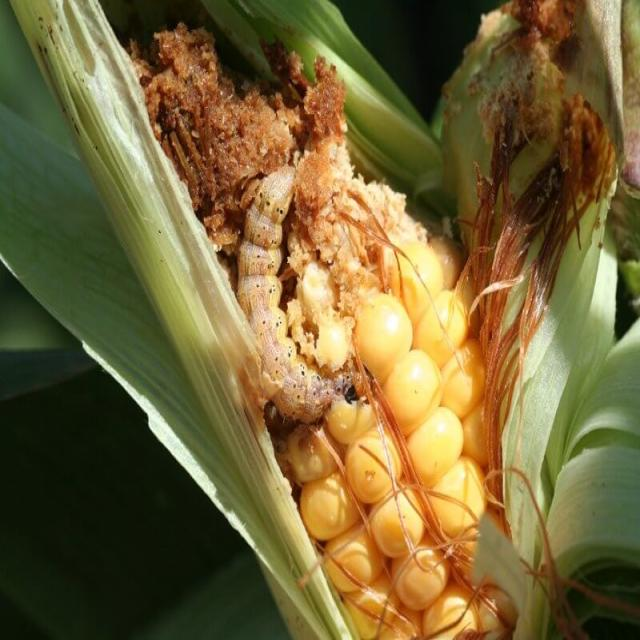worm: (233, 146, 339, 437)
